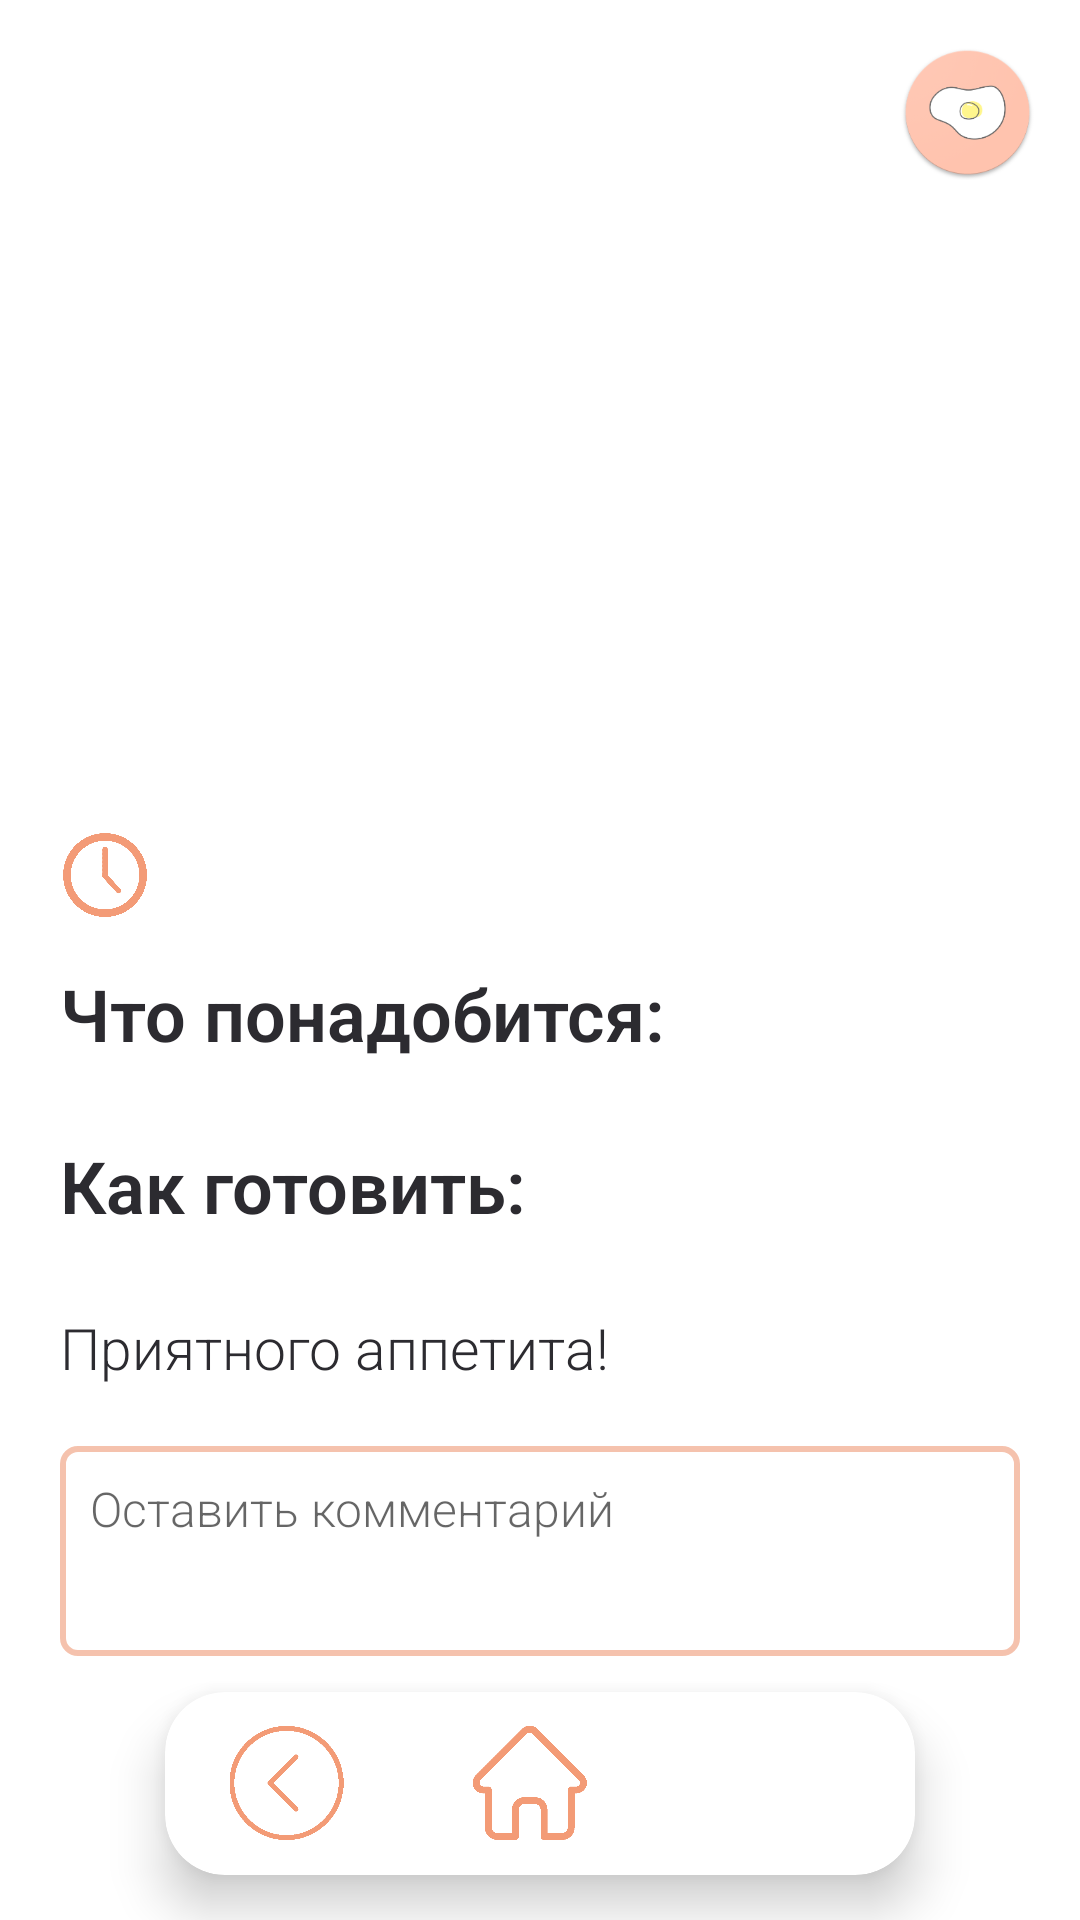

Named icons in this screenshot (1080 × 1920) and their bounding boxes, (x1, y1, x2, y2):
home: (473, 1726, 587, 1840)
previous: (230, 1726, 344, 1840)
time: (63, 833, 147, 917)
